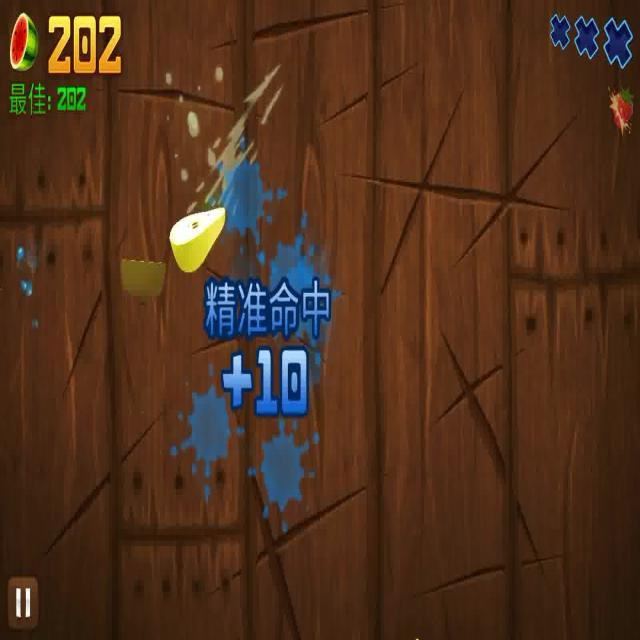fruit: (166, 203, 234, 278), (113, 248, 167, 311)
